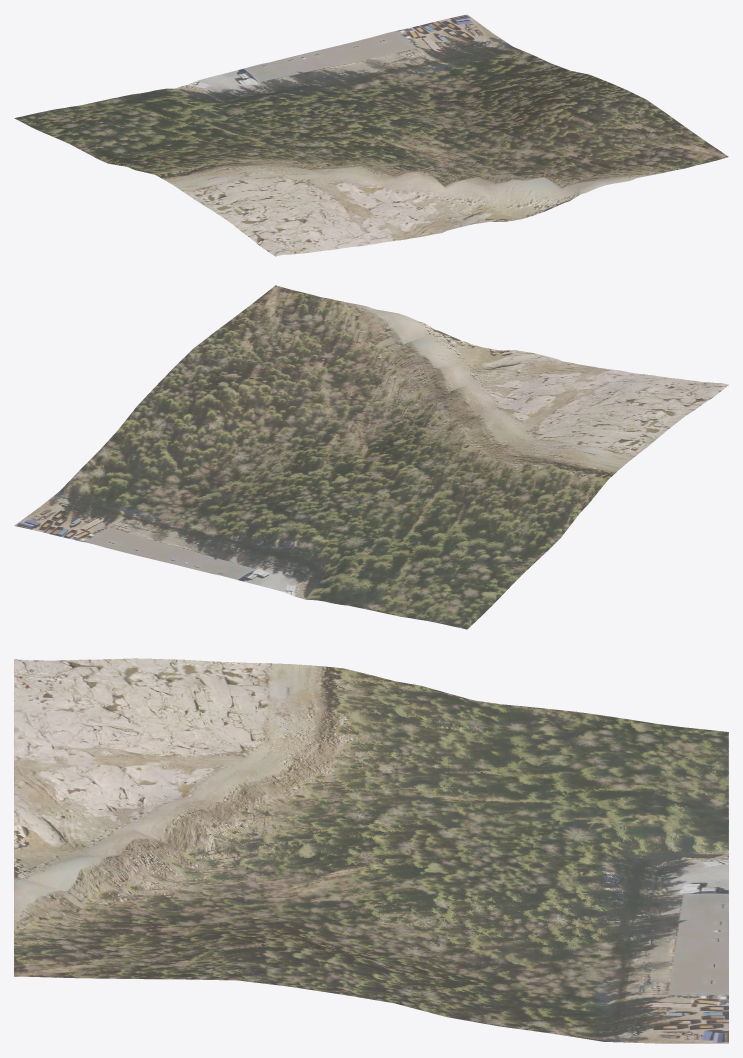
File: CM_Terrain_24493735_6815084.fbx
3 views of the same model, one above another, from view 1: azimuth 30°, elevation 25°; view 2: azimuth 150°, elevation 25°; view 3: azimuth 270°, elevation 25° (orthographic). The views are drawn at different scales.
Parts seen in each view (by area): view 1: CM_Terrain_24493735_6815084_LOD0; view 2: CM_Terrain_24493735_6815084_LOD0; view 3: CM_Terrain_24493735_6815084_LOD0.
Boxes of the visible parts, x1,y1,x2,y2 form: CM_Terrain_24493735_6815084_LOD0: (14, 14, 728, 256); CM_Terrain_24493735_6815084_LOD0: (14, 285, 728, 629); CM_Terrain_24493735_6815084_LOD0: (14, 658, 728, 1043).
Size of what is drawn, in the model's own units: 205 by 27.59 by 205.
